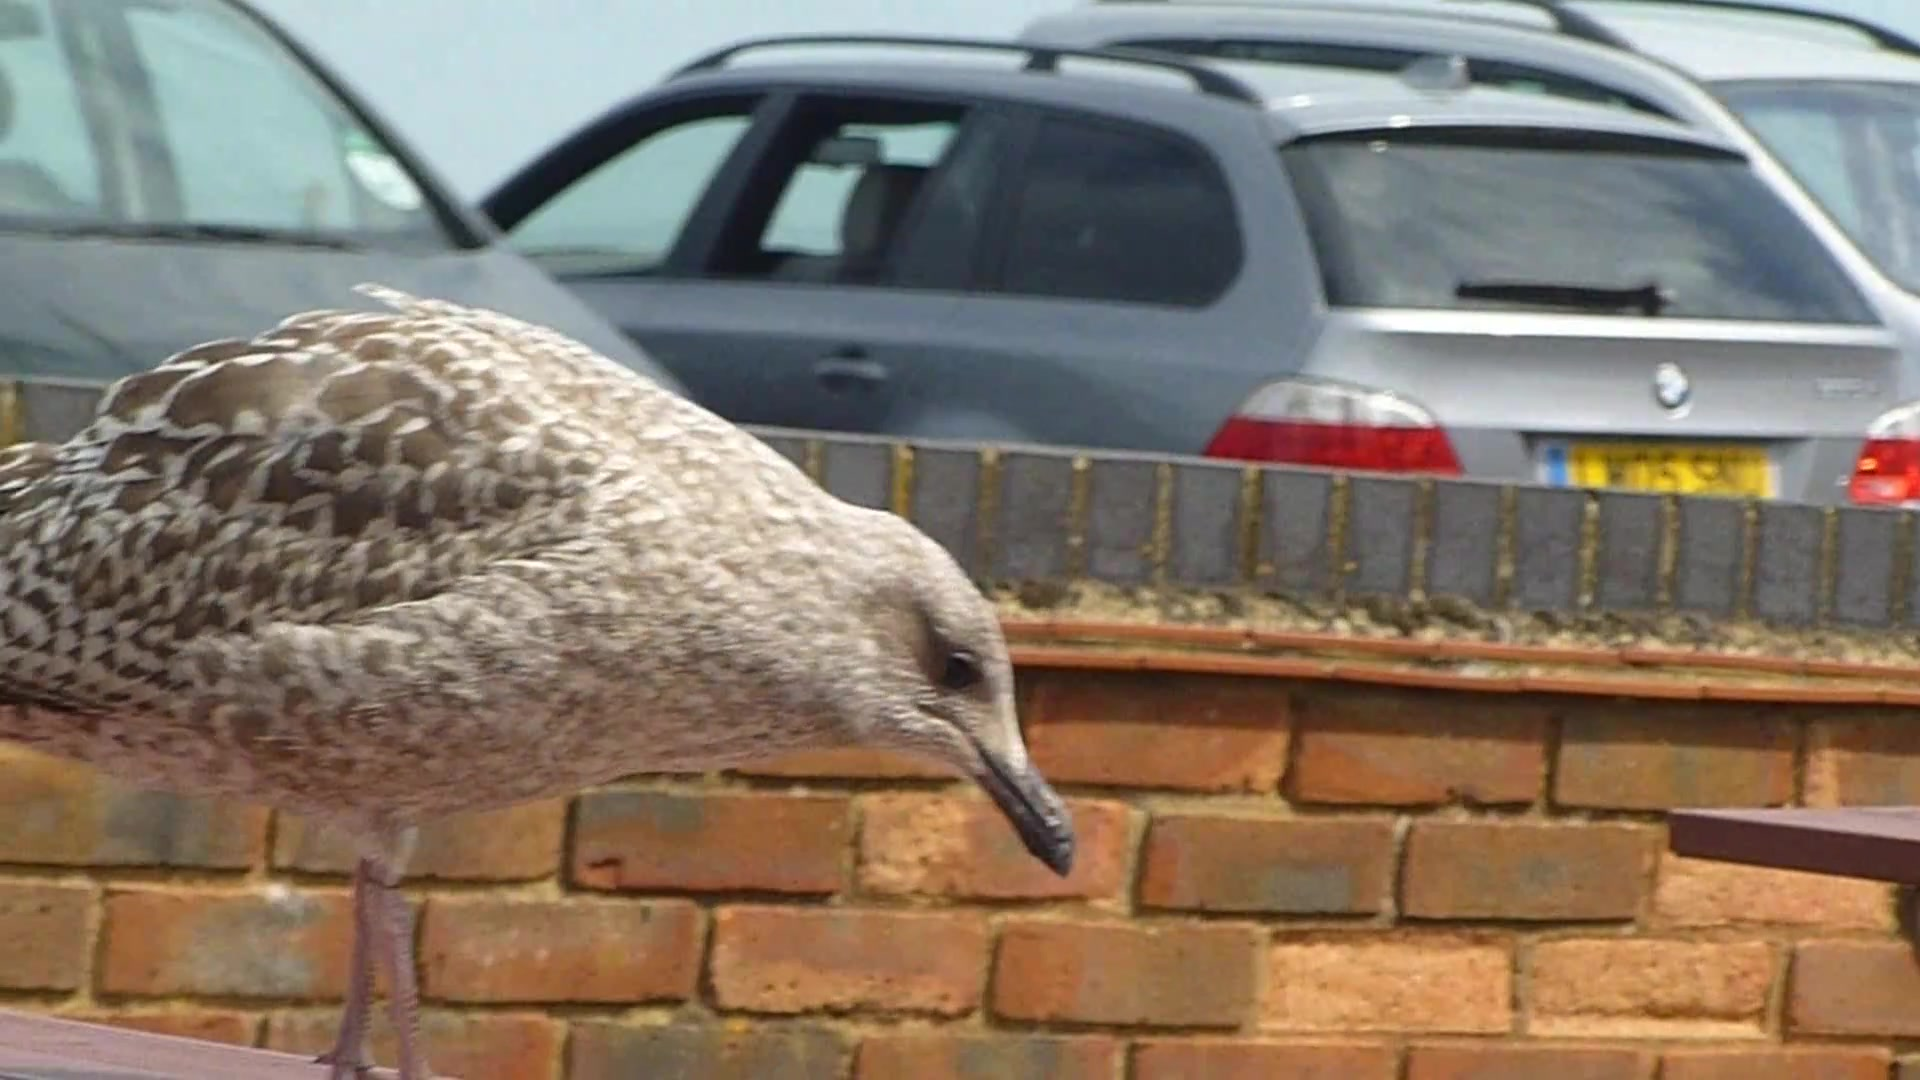bird: (3, 282, 1079, 1080)
